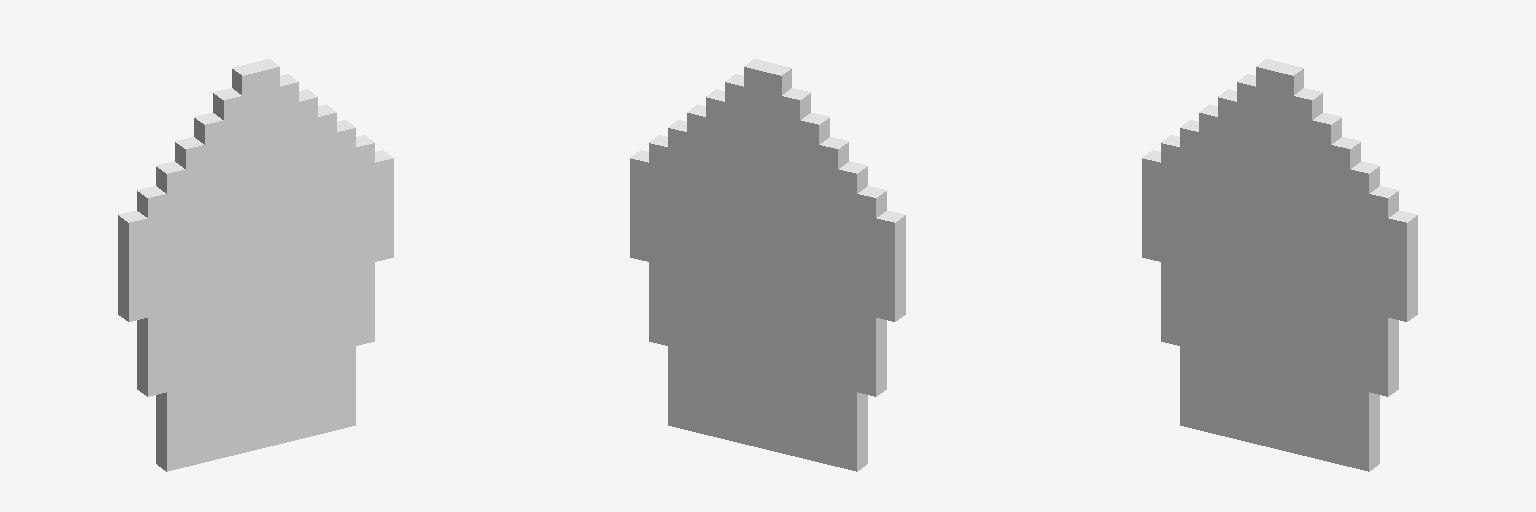
File: token-K.obj
3 views of the same model, side by side, from view 1: azimuth 30°, elevation 25°; view 2: azimuth 150°, elevation 25°; view 3: azimuth 330°, elevation 25° (orthographic).
Visible parts, largest first — view 1: object 1; view 2: object 1; view 3: object 1.
Part boxes in pixels (bbox=[...]): object 1: bbox=[118, 59, 393, 471]; object 1: bbox=[630, 59, 905, 471]; object 1: bbox=[1142, 59, 1417, 471].
Bounding box in the file's own units: 1.4 × 1.9 × 0.1.